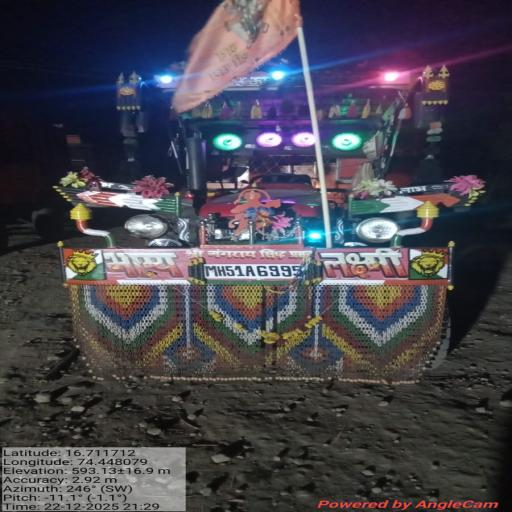number_plate: (199, 262, 317, 288)
